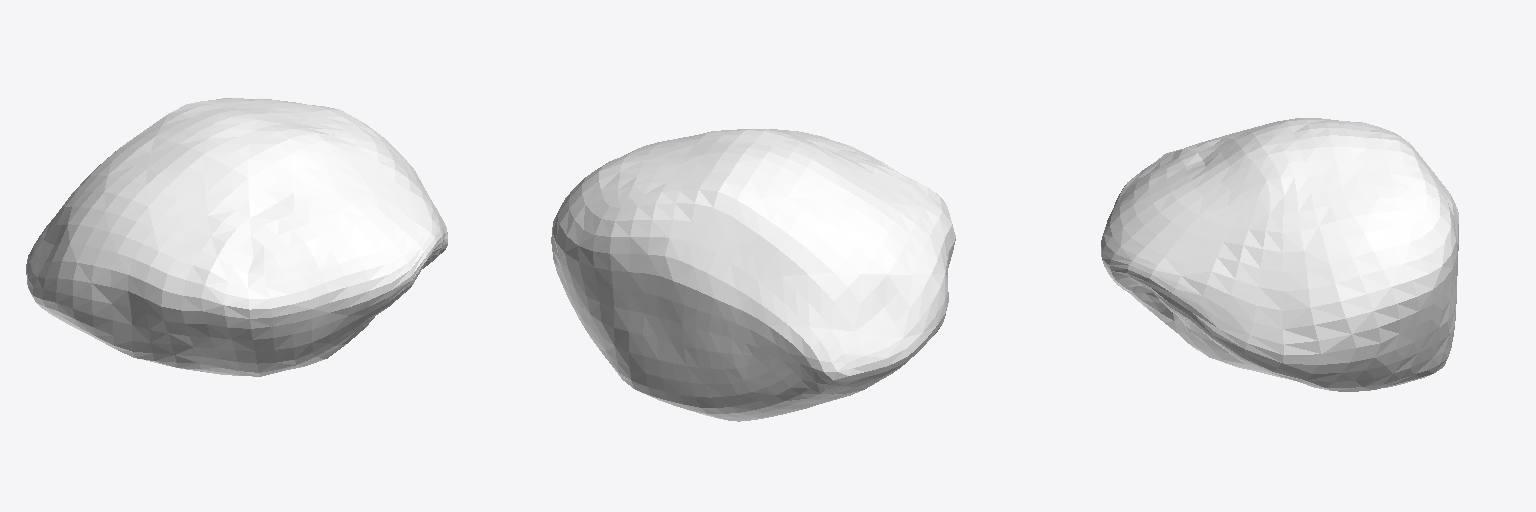
Rendered from rock.obj.
The picture shows the model from 3 angles: view 1: azimuth 30°, elevation 25°; view 2: azimuth 150°, elevation 25°; view 3: azimuth 270°, elevation 25°; orthographic projection.
Visible parts, largest first — view 1: Object.1; view 2: Object.1; view 3: Object.1.
Part boxes in pixels (x1,y1,x2,y2): Object.1: (26,98,447,376); Object.1: (551,129,955,421); Object.1: (1101,118,1458,391).
Bounding box in the file's own units: 780 × 484 × 654.